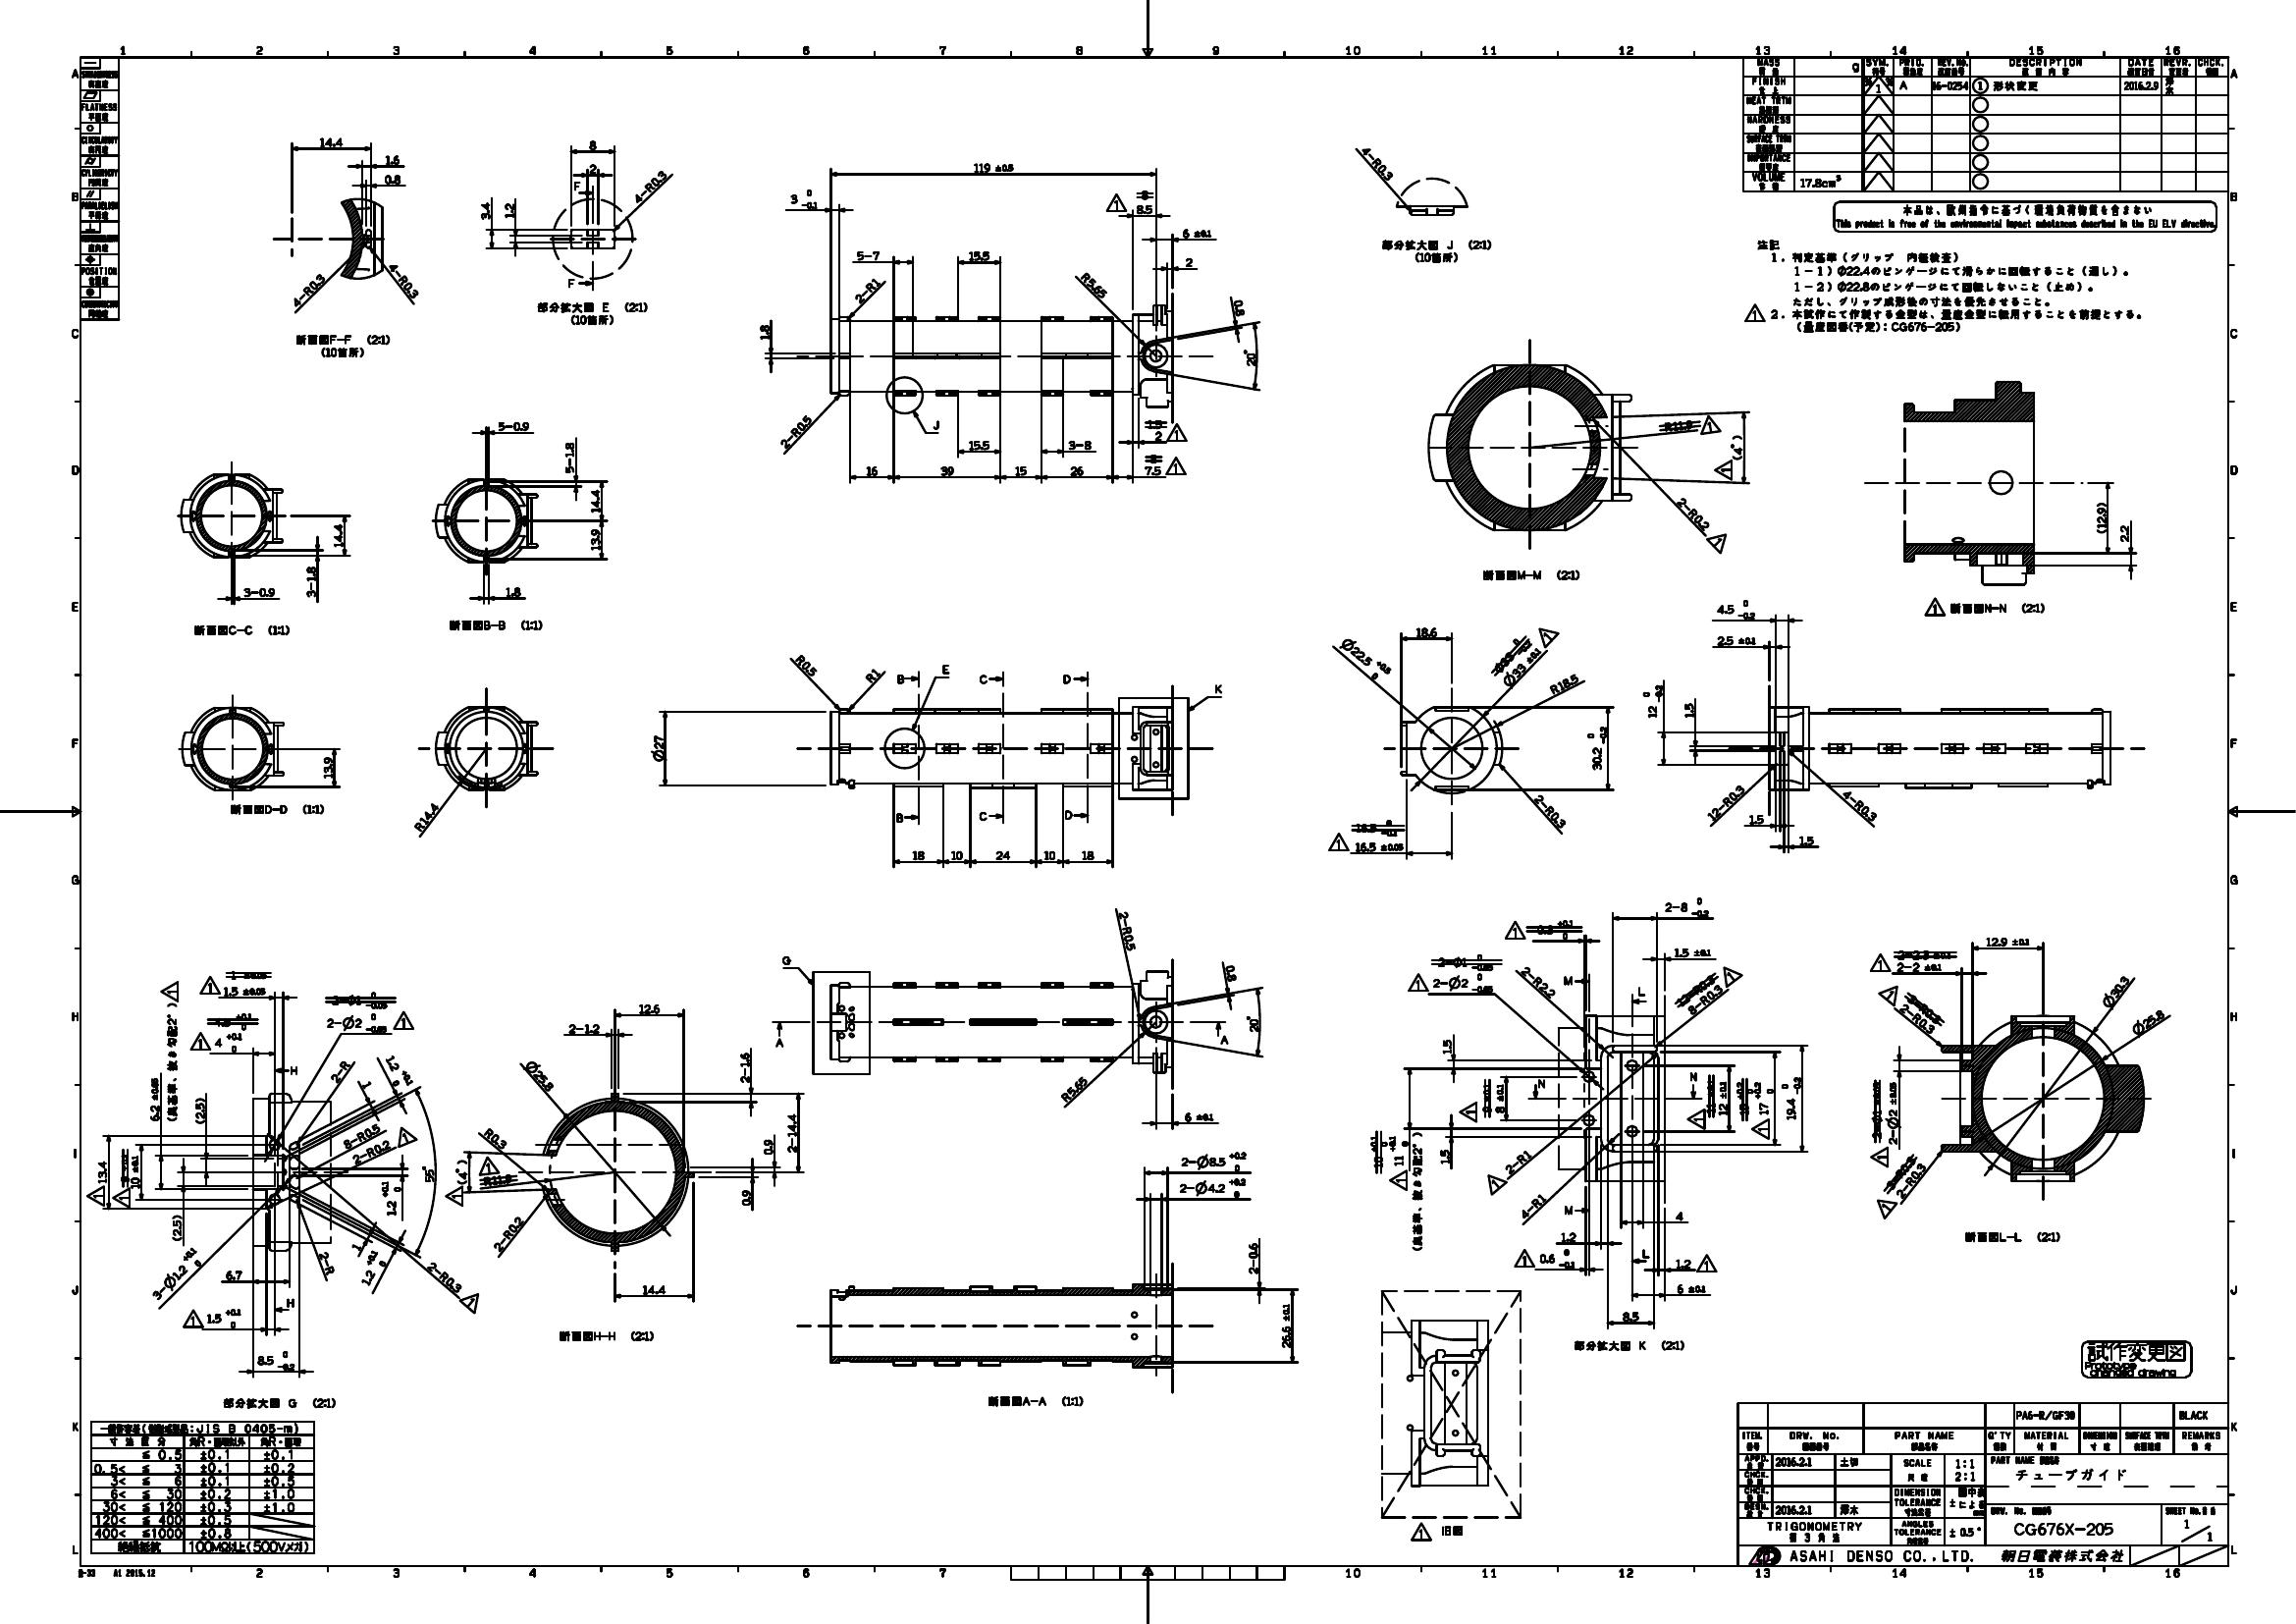anntotation_text: (1743, 239, 2141, 332), (1832, 199, 2217, 232), (2080, 1338, 2192, 1378), (158, 981, 179, 1123), (1381, 239, 1491, 264), (538, 302, 648, 325), (1924, 598, 2045, 617), (297, 334, 390, 359), (223, 1396, 336, 1410), (448, 617, 543, 633), (1411, 1132, 1423, 1251), (1574, 1339, 1683, 1352), (230, 801, 323, 816), (1481, 569, 1581, 582), (557, 1329, 653, 1341), (195, 624, 290, 636), (1409, 1520, 1463, 1541), (1964, 1232, 2059, 1243), (987, 1396, 1082, 1406), (462, 1290, 483, 1311), (1105, 192, 1126, 213), (1867, 1146, 1888, 1167), (1504, 919, 1525, 940), (1458, 1100, 1477, 1123), (1388, 1169, 1407, 1192), (444, 1185, 464, 1207), (111, 1186, 130, 1209), (199, 975, 221, 995), (392, 1011, 415, 1030), (1708, 531, 1730, 550), (1699, 415, 1722, 434), (1166, 424, 1189, 443), (1869, 953, 1892, 972), (1407, 972, 1430, 991), (1326, 831, 1349, 851), (1163, 457, 1188, 475), (1750, 1118, 1769, 1139), (1685, 1109, 1706, 1128), (1483, 1172, 1504, 1192), (1695, 1253, 1716, 1272), (86, 1185, 105, 1206), (190, 1032, 211, 1051), (1713, 459, 1732, 480), (1718, 965, 1739, 984), (181, 1309, 204, 1327), (1535, 626, 1558, 643), (1514, 1250, 1535, 1267), (395, 1127, 415, 1144), (1874, 1197, 1894, 1214), (1881, 984, 1901, 1002), (1635, 984, 1646, 997), (1219, 1033, 1230, 1044), (773, 1037, 783, 1048), (1061, 673, 1072, 684), (1063, 808, 1073, 819), (1562, 974, 1572, 984), (1537, 1077, 1546, 1090), (782, 954, 791, 967), (1214, 682, 1223, 694), (1688, 1070, 1697, 1081), (1563, 1204, 1572, 1214), (1641, 1250, 1651, 1258), (288, 1065, 297, 1076), (896, 673, 905, 684), (978, 673, 987, 684), (978, 810, 987, 821), (566, 278, 574, 288), (942, 663, 949, 675), (896, 812, 903, 823), (933, 420, 940, 431), (286, 1299, 293, 1308), (573, 181, 580, 190)
dimension_text: (1179, 1178, 1247, 1199), (327, 1012, 386, 1033), (1180, 1151, 1245, 1171), (144, 1265, 207, 1285), (1432, 972, 1493, 991), (1335, 649, 1393, 668), (1883, 1081, 1899, 1144), (1588, 724, 1607, 772), (1664, 896, 1709, 916), (1781, 1076, 1801, 1120), (1715, 599, 1757, 619), (256, 1350, 295, 1371), (355, 1257, 392, 1278), (1539, 1248, 1574, 1269), (379, 1062, 415, 1083), (1641, 684, 1662, 717), (1388, 1134, 1409, 1167), (381, 1181, 401, 1216), (206, 1309, 241, 1329), (1497, 659, 1548, 671), (286, 283, 330, 297), (2096, 982, 2134, 998), (1755, 1081, 1773, 1114), (1702, 796, 1750, 808), (775, 424, 815, 438), (425, 1269, 466, 1283), (2127, 1014, 2166, 1028), (1985, 935, 2029, 947), (149, 1077, 162, 1121), (1356, 156, 1398, 169), (1890, 1174, 1932, 1186), (487, 1227, 529, 1239), (791, 188, 817, 207), (1530, 805, 1570, 817), (341, 1130, 381, 1142), (214, 1033, 242, 1051), (1895, 961, 1941, 972), (1281, 1302, 1291, 1348), (2094, 501, 2108, 534), (381, 274, 425, 285), (1716, 1079, 1729, 1116), (1672, 508, 1715, 518), (629, 181, 671, 192), (1897, 1012, 1939, 1023), (1839, 800, 1881, 810), (1107, 926, 1149, 937), (223, 984, 265, 995), (476, 1156, 499, 1176), (522, 1069, 557, 1081), (1716, 634, 1757, 645), (973, 162, 1014, 172), (1685, 993, 1725, 1004), (787, 1113, 798, 1153), (350, 1146, 390, 1156), (1356, 842, 1404, 851), (411, 810, 444, 823), (1087, 269, 1100, 302), (130, 1156, 142, 1190), (650, 735, 664, 763), (1674, 947, 1711, 958), (1549, 677, 1581, 689), (321, 752, 336, 779), (1516, 977, 1558, 986), (453, 1158, 467, 1185), (852, 283, 882, 295), (306, 566, 316, 598), (564, 441, 574, 473), (497, 420, 529, 431), (1502, 1156, 1534, 1167), (1516, 1200, 1548, 1211), (1058, 1084, 1089, 1095), (1182, 1111, 1214, 1121), (1247, 1243, 1258, 1274), (740, 1051, 750, 1083), (1730, 434, 1743, 460), (170, 1214, 183, 1241), (244, 587, 274, 598), (1182, 228, 1212, 239), (1495, 1083, 1505, 1113), (1676, 1283, 1706, 1294), (569, 1023, 599, 1033), (794, 659, 819, 671), (641, 1283, 666, 1295), (195, 1097, 206, 1125), (332, 524, 344, 547), (638, 1002, 661, 1014), (483, 1134, 509, 1144), (327, 1065, 353, 1076), (1242, 348, 1256, 367), (590, 489, 601, 513), (856, 250, 880, 260), (968, 250, 989, 262), (314, 1258, 339, 1269), (1245, 1016, 1260, 1033), (1068, 439, 1091, 450), (320, 137, 343, 148), (590, 529, 601, 550), (968, 439, 989, 450), (1416, 626, 1437, 636), (97, 1162, 107, 1183), (1440, 1037, 1453, 1055), (1621, 1309, 1639, 1322), (422, 1165, 434, 1183), (2119, 524, 2129, 543), (762, 1137, 773, 1156), (1233, 299, 1244, 316), (1144, 464, 1161, 475), (383, 174, 401, 185), (480, 202, 490, 220), (225, 1269, 242, 1280), (1748, 814, 1764, 824), (1683, 701, 1693, 717), (940, 466, 956, 476), (759, 323, 769, 339), (1137, 204, 1152, 214), (383, 155, 399, 165), (504, 202, 515, 218), (1439, 1149, 1449, 1165), (1560, 1232, 1576, 1243), (1676, 1258, 1692, 1269), (740, 1190, 750, 1206), (504, 587, 522, 596), (864, 671, 880, 680), (1799, 835, 1815, 844), (1223, 968, 1238, 977), (912, 849, 924, 859), (866, 464, 877, 476), (1043, 849, 1056, 859), (1080, 851, 1094, 859), (587, 139, 597, 149), (950, 851, 963, 859), (996, 851, 1008, 859), (1070, 466, 1082, 475), (1014, 466, 1026, 475), (351, 1241, 360, 1253), (1154, 431, 1163, 441), (1184, 257, 1193, 267), (1674, 1211, 1683, 1222), (588, 163, 597, 172), (364, 1081, 371, 1090)
object: (829, 968, 1173, 1074), (829, 304, 1175, 408), (1939, 1014, 2145, 1183), (1426, 364, 1632, 531), (826, 705, 1173, 791), (1767, 705, 2112, 791), (829, 1283, 1173, 1369), (1903, 380, 2034, 587), (541, 1091, 696, 1251), (1381, 1318, 1488, 1487), (1583, 1014, 1667, 1183), (253, 1091, 332, 1251), (1400, 705, 1504, 794), (432, 478, 539, 564), (179, 473, 283, 559), (436, 707, 539, 791), (181, 707, 283, 791), (339, 197, 385, 279), (1393, 178, 1469, 216), (569, 227, 617, 250)
title_block: (1736, 1401, 2231, 1568), (1741, 54, 2229, 192), (90, 1420, 316, 1554), (79, 56, 119, 322)
